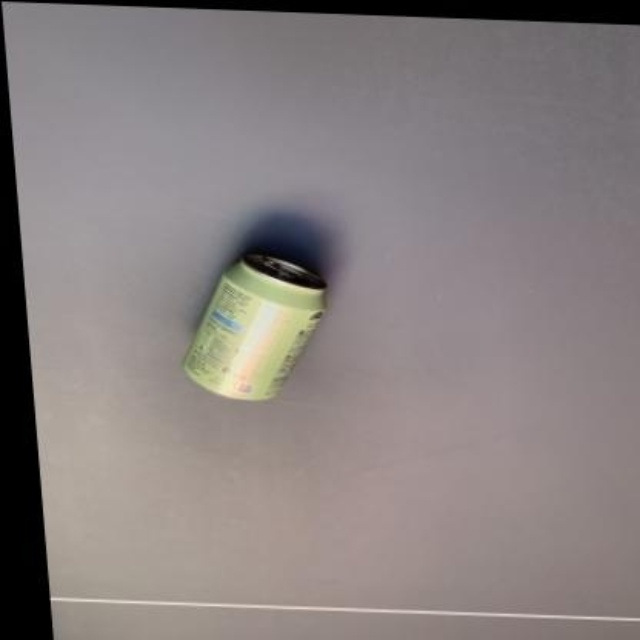trash: (185, 251, 325, 398)
